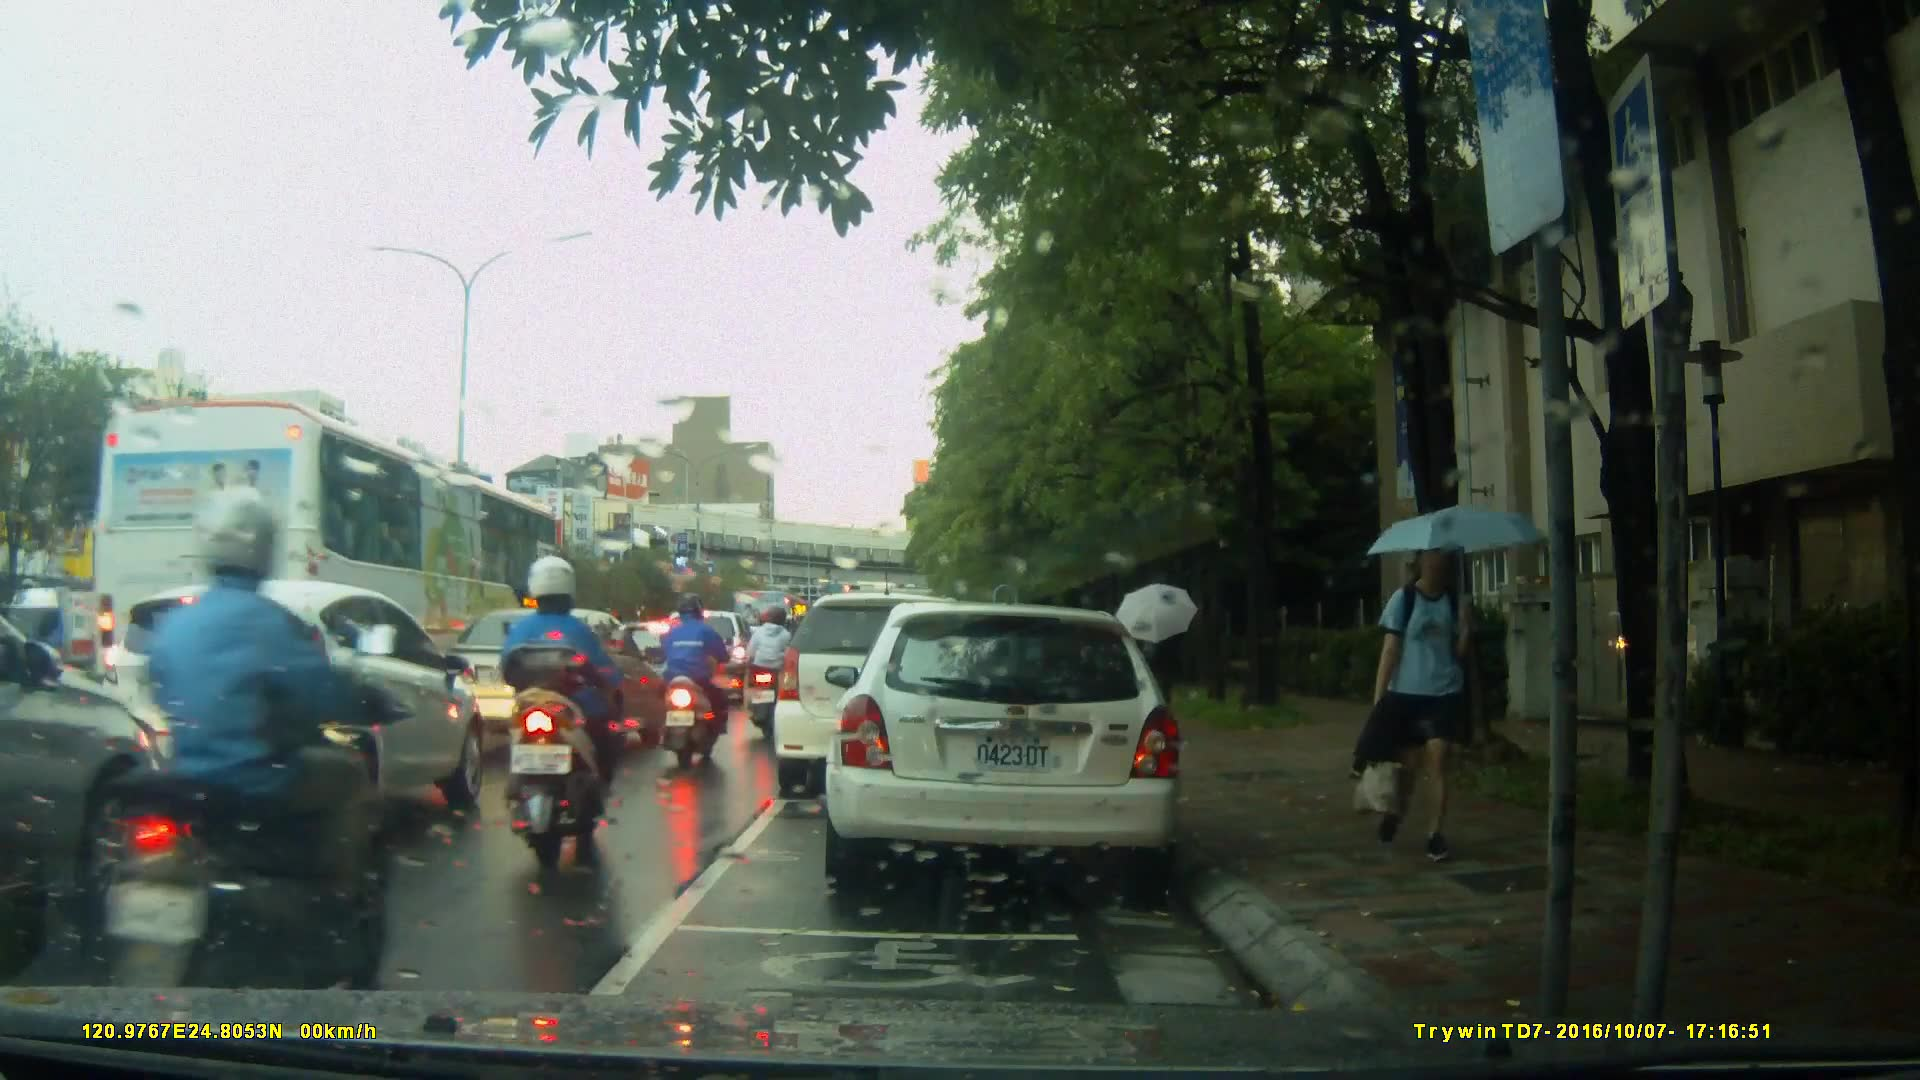pedestrian: (1350, 530, 1503, 867)
rider: (108, 483, 401, 1071), (497, 557, 634, 861), (654, 597, 732, 770), (751, 599, 808, 743)
vehicle: (91, 394, 568, 733), (835, 594, 1194, 898), (97, 576, 486, 846), (776, 590, 1026, 784), (422, 605, 665, 750), (1, 586, 155, 697), (610, 619, 720, 716)
